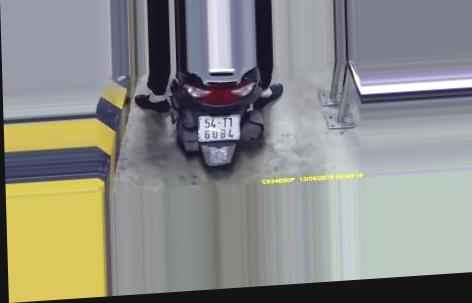License_Plate: (194, 110, 243, 149)
